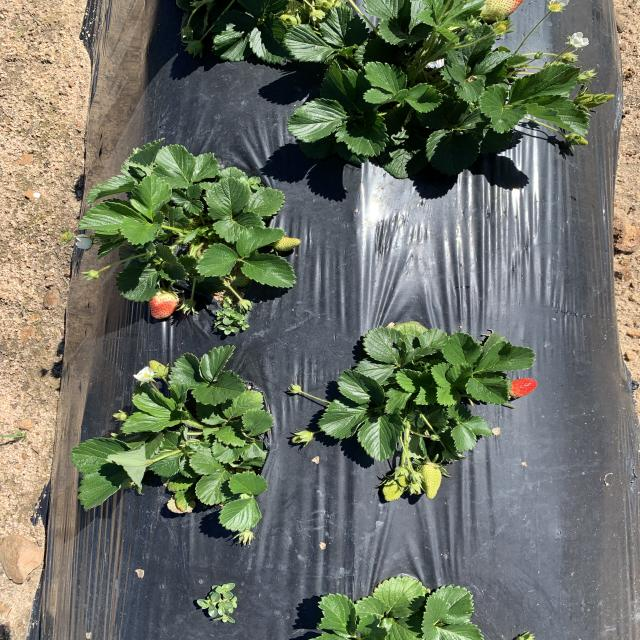unripe: (501, 376, 540, 398), (148, 288, 176, 318)
